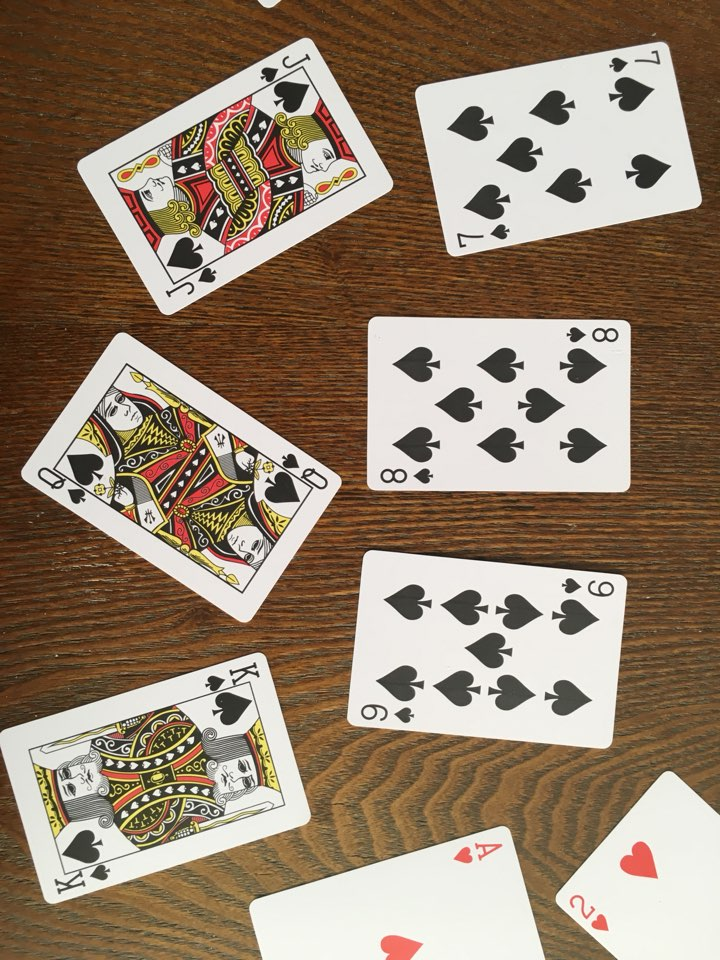ace: (246, 819, 557, 960)
jack: (76, 29, 403, 323)
king: (2, 642, 316, 909)
nine: (341, 543, 634, 758)
queen: (16, 324, 352, 629)
